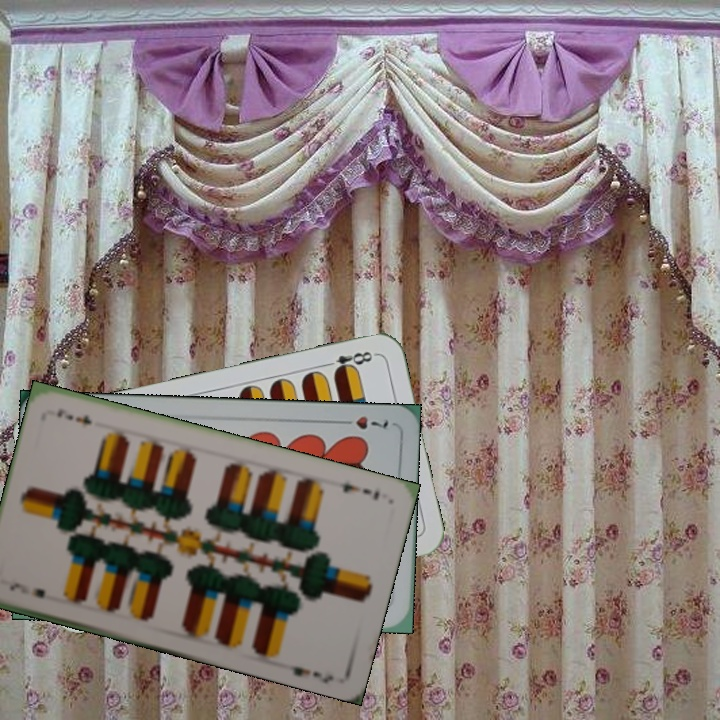E7: (338, 479, 382, 503), (5, 579, 48, 601)
E8: (320, 347, 378, 377)
H7: (334, 412, 391, 432)
